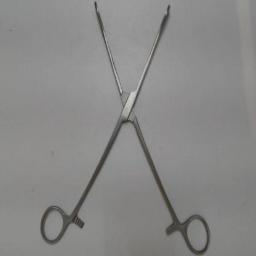Sponge Forceps: (38, 0, 214, 254)
